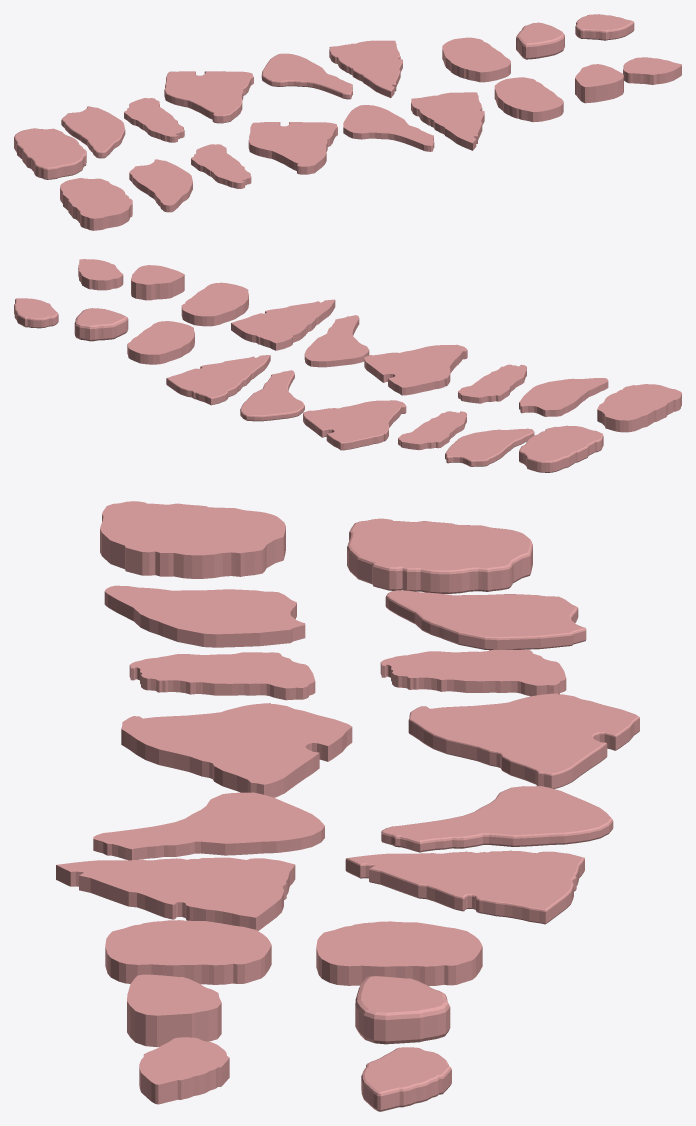
Rendered from steak-1.glb.
3 renders of one model, top to bottom at view 1: azimuth 30°, elevation 25°; view 2: azimuth 150°, elevation 25°; view 3: azimuth 270°, elevation 25°, orthographic. The views are drawn at different scales.
Visible parts, largest first — view 1: geometry_0; view 2: geometry_0; view 3: geometry_0.
Part boxes in pixels (x1,y1,x2,y2): geometry_0: (14, 14, 681, 230); geometry_0: (14, 259, 681, 472); geometry_0: (56, 501, 639, 1111).
Size of the model in its own units: 1.6 by 0.04 by 0.6724.
